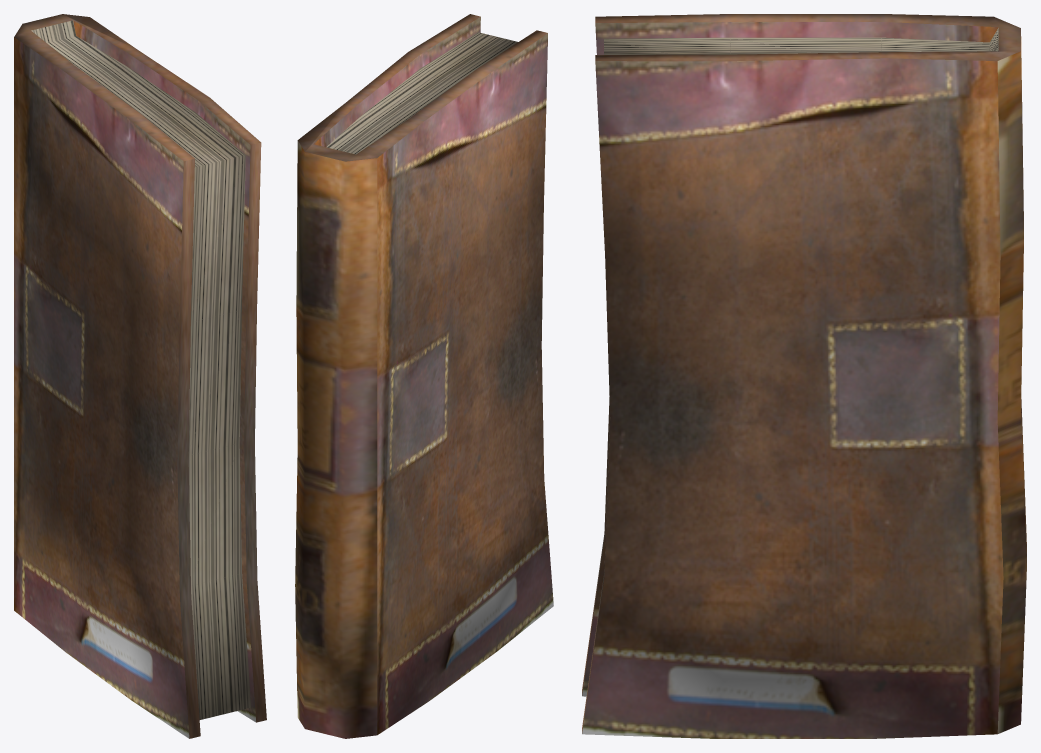
Rendered from book.fbx.
3 renders of one model, left to right at view 1: azimuth 30°, elevation 25°; view 2: azimuth 150°, elevation 25°; view 3: azimuth 270°, elevation 25°, orthographic. The views are drawn at different scales.
Visible parts, largest first — view 1: U3DMesh; view 2: U3DMesh; view 3: U3DMesh.
Part boxes in pixels (left/top/right/bottom): U3DMesh: left=14, top=14, right=266, bottom=738; U3DMesh: left=295, top=14, right=553, bottom=738; U3DMesh: left=582, top=14, right=1026, bottom=738.
Size of the model in its own units: 0.0833 by 0.5361 by 0.3176.
1 material, 1 textured.
